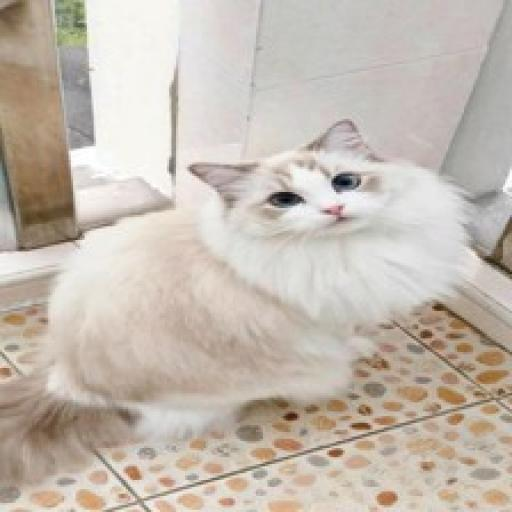cat: (0, 118, 494, 495)
